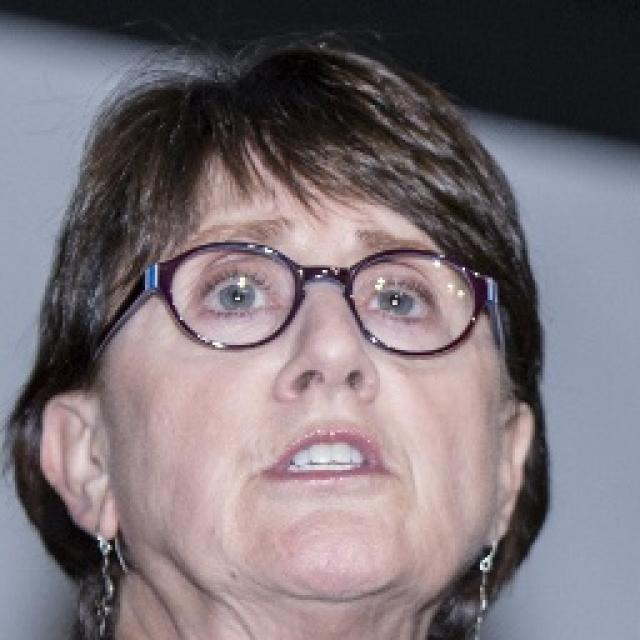earlobe: (39, 393, 123, 543), (482, 400, 535, 548)
